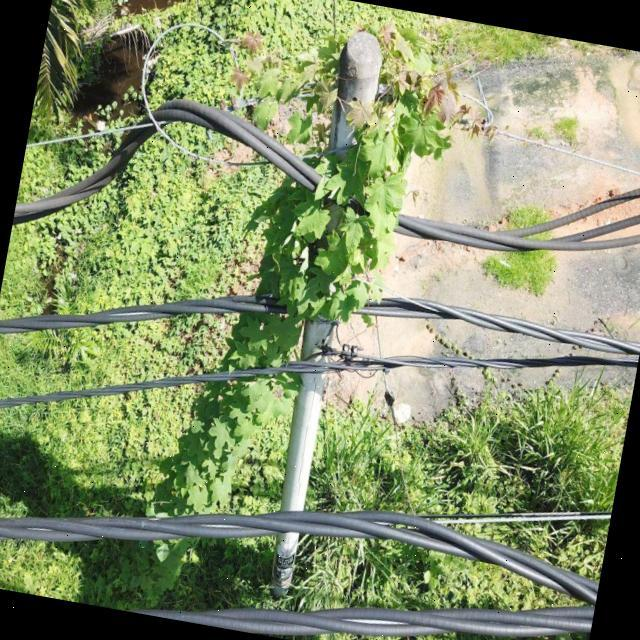critical vegetation: (110, 0, 463, 613)
